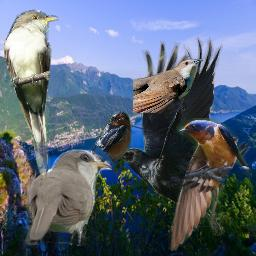Crow: (110, 35, 250, 237)
Cuckoo: (4, 9, 59, 180), (23, 149, 112, 246), (133, 59, 203, 113)
Swallow: (168, 118, 252, 251), (57, 111, 132, 206)
